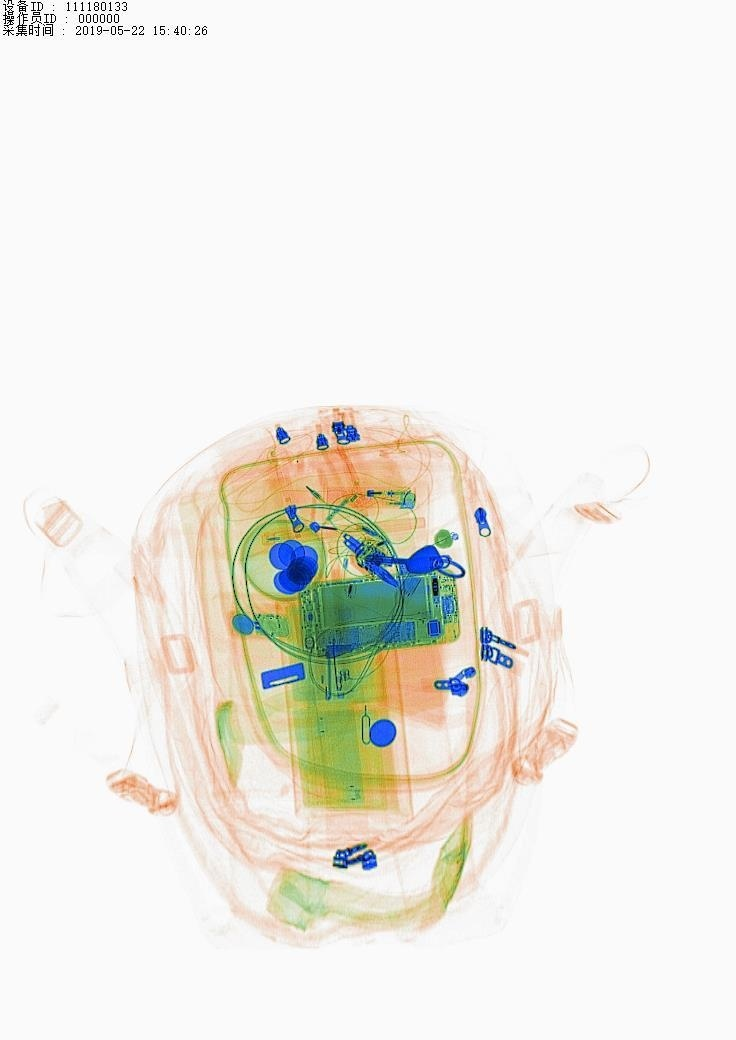NonmetallicFire: (322, 479, 425, 520)
